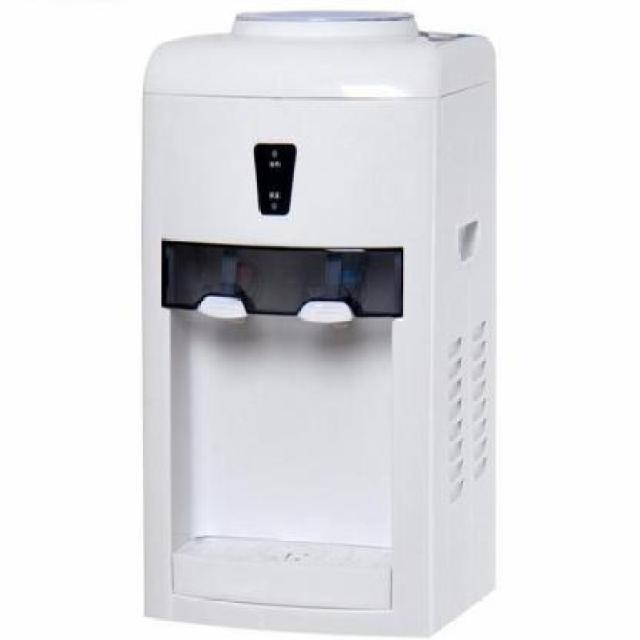cooler: (140, 4, 500, 638)
